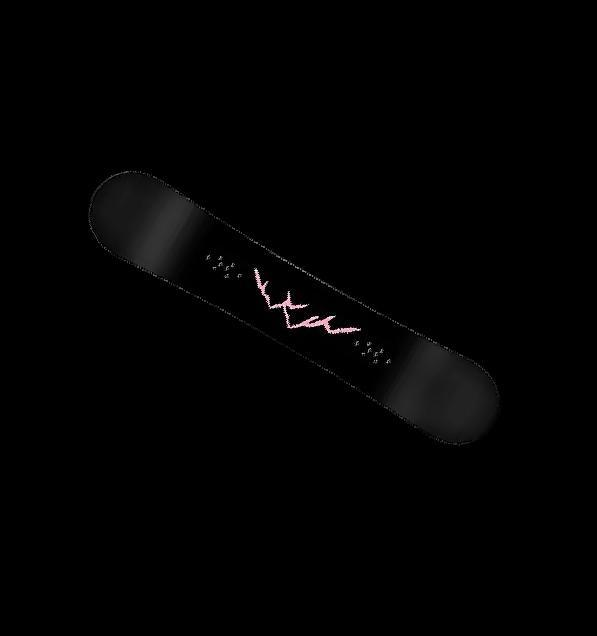Snowboard: (87, 168, 502, 447)
